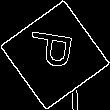P_E: (27, 32, 83, 78)
